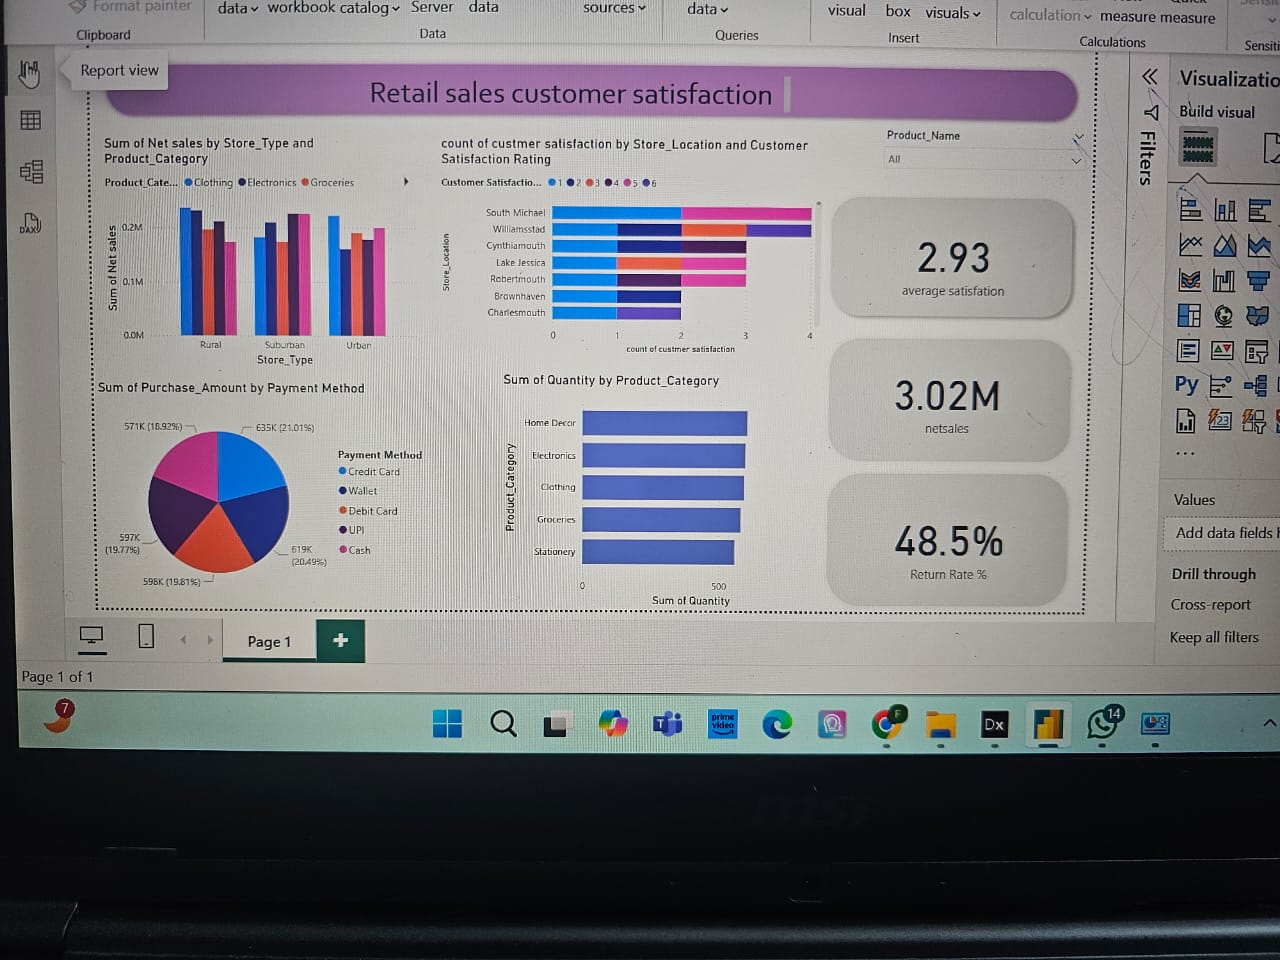

This screenshot's page, from the dashboard's own definition file:
{"tool":"powerbi","page":{"name":"Page 1","canvas":[1280,720],"ordinal":0},"visuals":[{"type":"slicer","fields":{"Values":["project 1.Product_Name"]},"box":[1000.7,97.2,280.1,66.4],"z":0},{"type":"shape","box":[13,17.8,1251.7,79.3],"z":1000},{"type":"textbox","box":[13,263.9,1251.7,82.6],"z":2000},{"type":"textbox","box":[353,34,542.4,63.1],"z":3000},{"type":"clusteredColumnChart","fields":{"Category":["project 1.Store_Type"],"Y":["project 1.Net sales"],"Series":["project 1.Product_Category"]},"box":[13,115,411.3,296.3],"z":4000},{"type":"barChart","fields":{"Category":["project 1.Product_Category"],"Y":["project 1.Quantity"]},"box":[521.4,411.3,406.4,309.3],"z":5000},{"type":"pieChart","fields":{"Category":["project 1.Payment Method"],"Y":["project 1.Purchase_Amount"]},"box":[0,424.2,443.7,296.3],"z":6000},{"type":"barChart","fields":{"Category":["project 1.Store_Location"],"Y":["project 1.count of custmer satisfaction"],"Series":["project 1.Customer Satisfaction Rating"]},"box":[443.7,115,493.9,276.9],"z":7000},{"type":"shape","box":[935.9,179.7,328.7,168.4],"z":7001},{"type":"card","fields":{"Values":["project 1.average satisfation"]},"box":[963.4,208.9,278.5,116.6],"z":7002},{"type":"shape","box":[937.5,359.5,328.7,173.3],"z":7003},{"type":"shape","box":[938,532,329,188],"z":7004},{"type":"card","fields":{"Values":["project 1.netsales"]},"box":[953.7,374,288.2,137.6],"z":7005},{"type":"card","fields":{"Values":["project 1.Return Rate %"]},"box":[953.7,542.4,299.6,178.1],"z":7006}]}

Visuals, with their boxes on the page's 1280x720 design canvas (x1, y1, x2, y2). These are canvas units, not pixel positions in the 1280x960 screenshot, which may show the page scaled, cropped or inside an application window:
slicer - project 1.Product_Name: [left=1001, top=97, right=1281, bottom=164]
shape: [left=13, top=18, right=1265, bottom=97]
textbox: [left=13, top=264, right=1265, bottom=346]
textbox: [left=353, top=34, right=895, bottom=97]
clusteredColumnChart - project 1.Store_Type x project 1.Net sales: [left=13, top=115, right=424, bottom=411]
barChart - project 1.Product_Category x project 1.Quantity: [left=521, top=411, right=928, bottom=721]
pieChart - project 1.Payment Method x project 1.Purchase_Amount: [left=0, top=424, right=444, bottom=720]
barChart - project 1.Store_Location x project 1.count of custmer satisfaction: [left=444, top=115, right=938, bottom=392]
shape: [left=936, top=180, right=1265, bottom=348]
card - project 1.average satisfation: [left=963, top=209, right=1242, bottom=326]
shape: [left=938, top=360, right=1266, bottom=533]
shape: [left=938, top=532, right=1267, bottom=720]
card - project 1.netsales: [left=954, top=374, right=1242, bottom=512]
card - project 1.Return Rate %: [left=954, top=542, right=1253, bottom=720]
